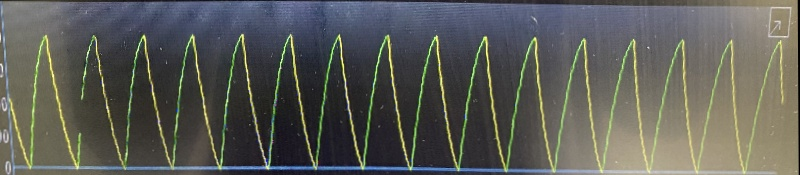normal_volume: (17, 28, 751, 175)
